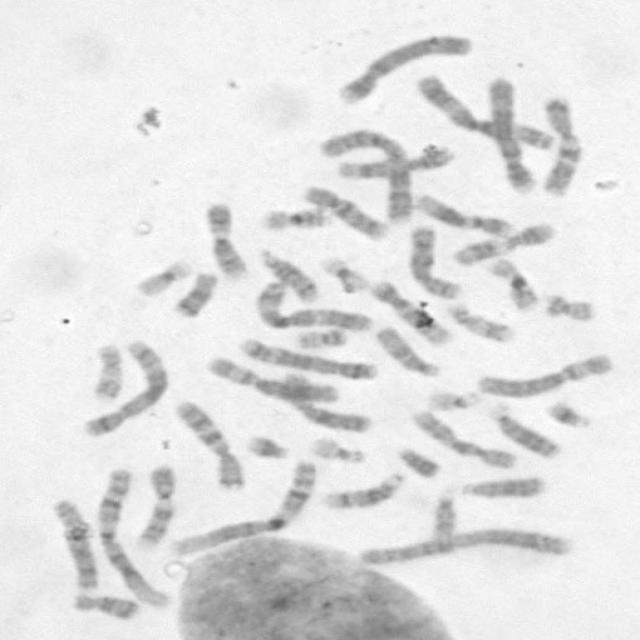A1: (170, 459, 318, 558), (92, 466, 173, 612)
A2: (314, 128, 414, 225), (359, 528, 576, 568)
A3: (414, 72, 559, 152), (255, 279, 375, 334)
B4: (336, 32, 476, 108), (481, 75, 538, 197)
B5: (79, 339, 172, 440), (240, 338, 380, 382)
C10: (411, 408, 518, 471), (298, 184, 392, 245)
C11: (449, 220, 555, 271), (334, 143, 454, 180)
C12: (368, 277, 453, 347), (416, 192, 514, 238)
C6: (202, 354, 341, 405), (477, 353, 615, 401)
C7: (170, 396, 248, 492), (538, 94, 586, 196)
C8: (50, 498, 99, 592), (406, 223, 460, 299)
C9: (202, 202, 251, 284), (133, 465, 178, 552)
D13: (487, 404, 563, 460), (458, 474, 547, 499)
D14: (256, 246, 324, 303), (318, 468, 406, 512)
D15: (373, 325, 444, 379), (430, 491, 460, 556)
E16: (486, 256, 541, 315), (256, 204, 333, 233)
E17: (442, 298, 514, 343), (90, 341, 128, 403)
E18: (171, 270, 218, 320), (72, 591, 140, 622)
F19: (129, 255, 196, 301), (320, 254, 370, 296)
F20: (541, 290, 598, 326), (294, 326, 348, 350)
G21: (545, 399, 597, 431), (244, 433, 292, 460)
G22: (304, 434, 370, 466), (427, 389, 482, 414)
X: (280, 372, 374, 434)
Y: (394, 445, 444, 479)
